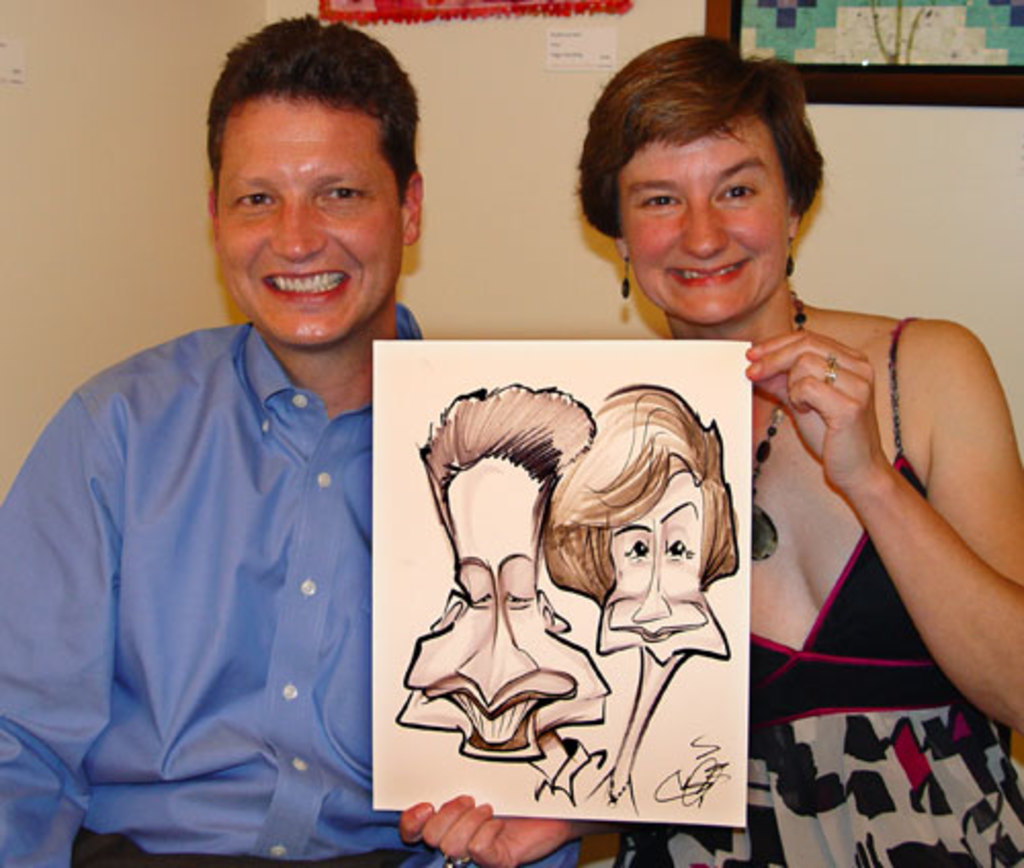Human_hand: (745, 315, 928, 504), (395, 792, 588, 866)
